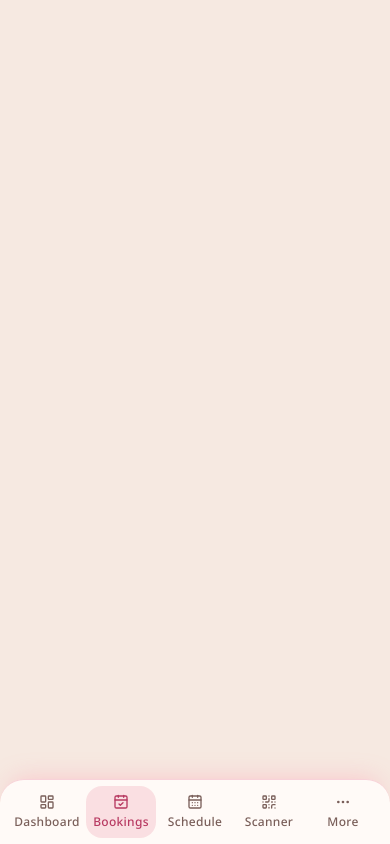
Test: admin tab bar › More lists the content screens, the admin directory and the account actions
Click the button "More" at (343, 812), box [308,786,378,838]
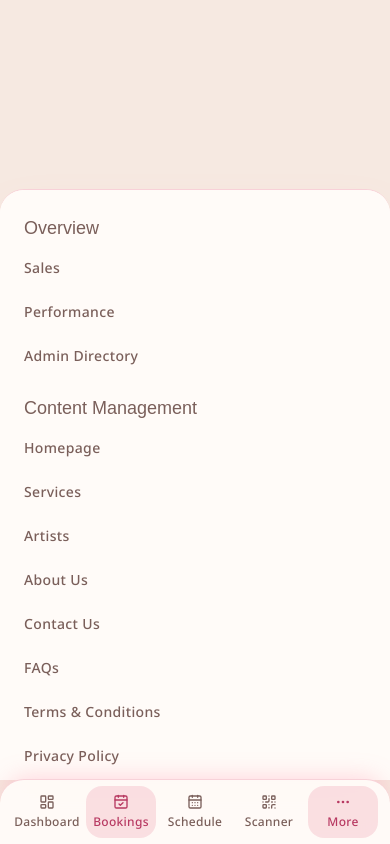
Expected: the button "More" is expanded, [308,786,378,838]
